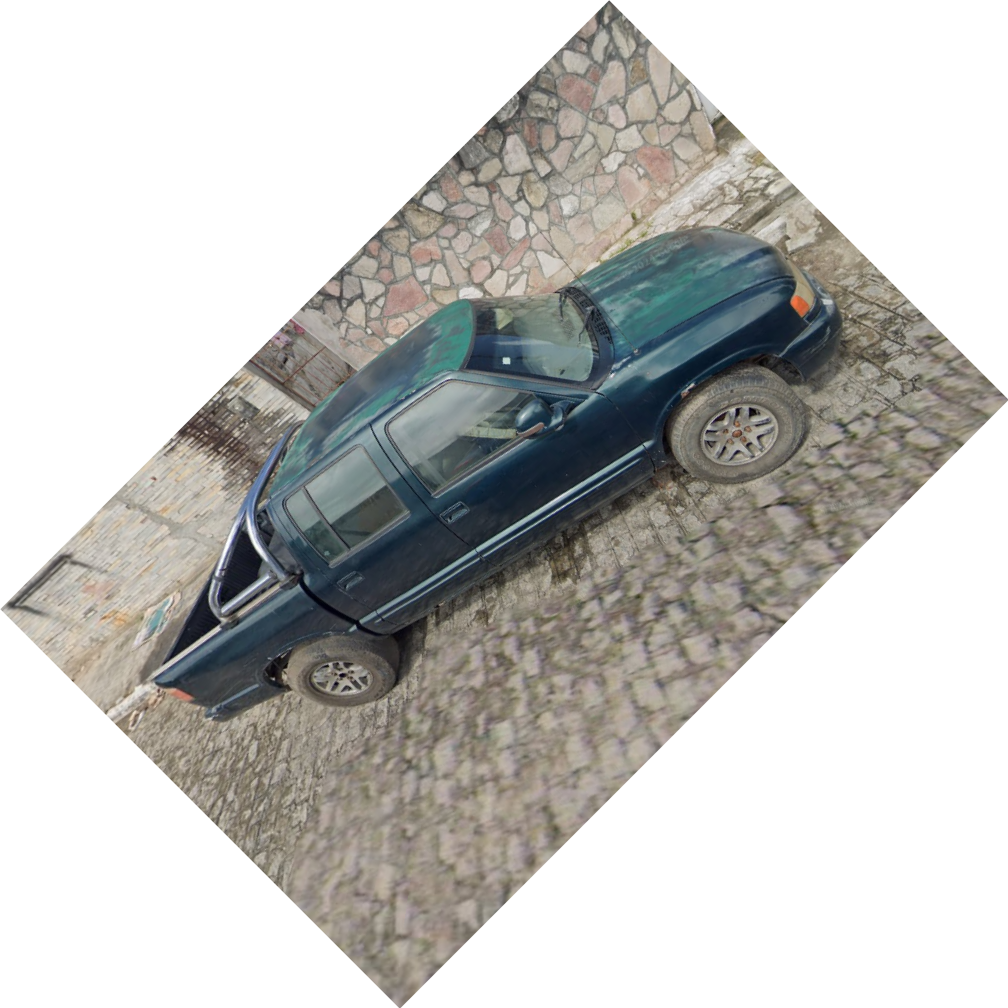car: (131, 222, 847, 722)
